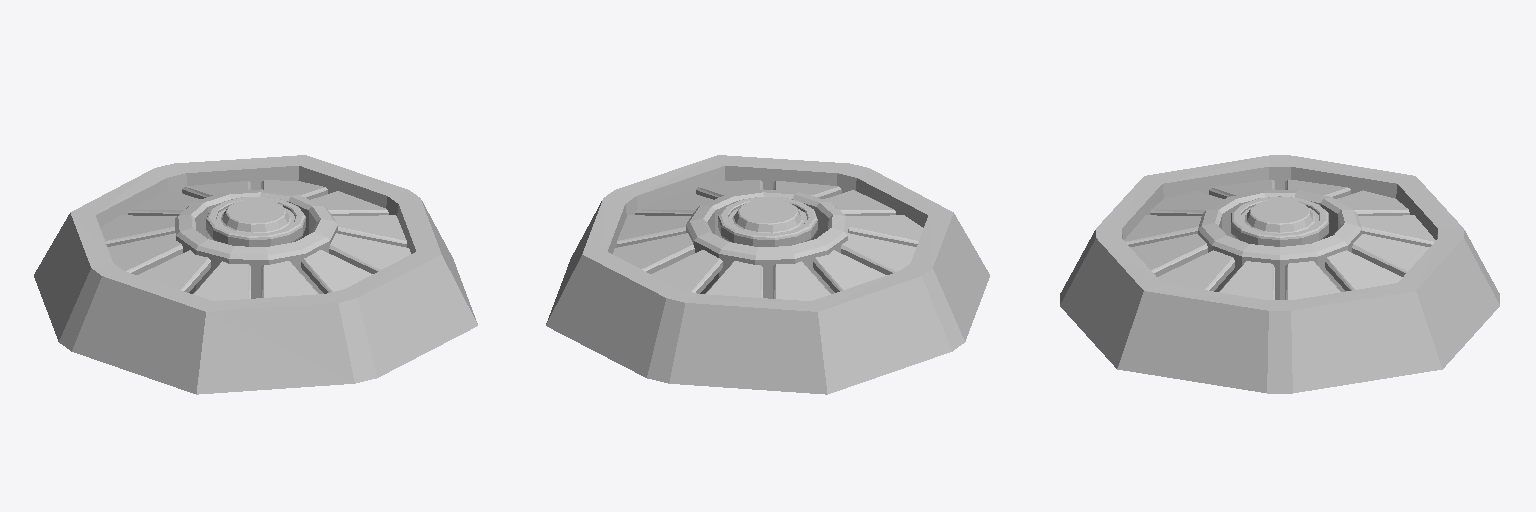
File: circleFloor.obj
The picture shows the model from 3 angles: view 1: azimuth 30°, elevation 25°; view 2: azimuth 150°, elevation 25°; view 3: azimuth 270°, elevation 25°; orthographic projection.
Visible parts, largest first — view 1: circleFloor; view 2: circleFloor; view 3: circleFloor.
Boxes of the visible parts, x1=… form: circleFloor: x1=34, y1=155, x2=477, y2=394; circleFloor: x1=546, y1=155, x2=989, y2=394; circleFloor: x1=1060, y1=155, x2=1499, y2=393.
Size of the model in its own units: 9.43 by 2.12 by 9.43.